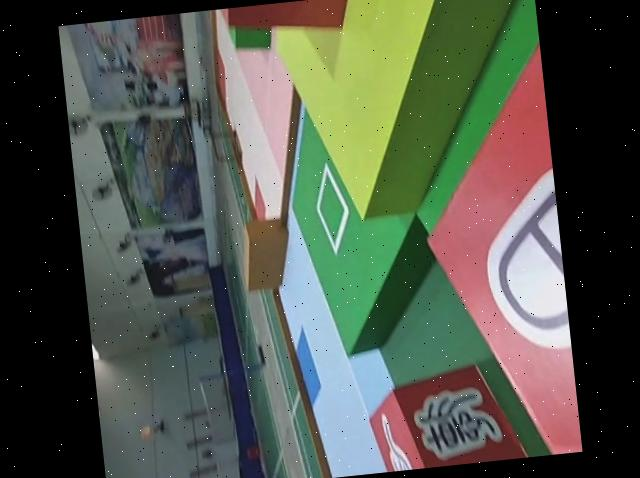R2 Fake: (404, 33, 583, 466), (363, 358, 529, 474), (214, 0, 380, 41)
